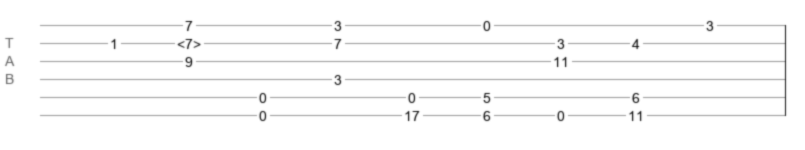0: (259, 108, 267, 118), (259, 90, 267, 100), (408, 90, 416, 100), (483, 18, 491, 28), (557, 108, 565, 118)
1: (110, 36, 118, 46)
11: (553, 54, 569, 64), (628, 108, 644, 118)
17: (404, 108, 420, 118)
3: (334, 18, 342, 28), (334, 72, 342, 82), (557, 36, 565, 46), (706, 18, 714, 28)
4: (632, 36, 640, 46)
5: (483, 90, 491, 100)
6: (483, 108, 491, 118), (632, 90, 640, 100)
7: (185, 18, 193, 28), (334, 36, 342, 46)
9: (185, 54, 193, 64)
harmonic: (177, 36, 201, 46)
